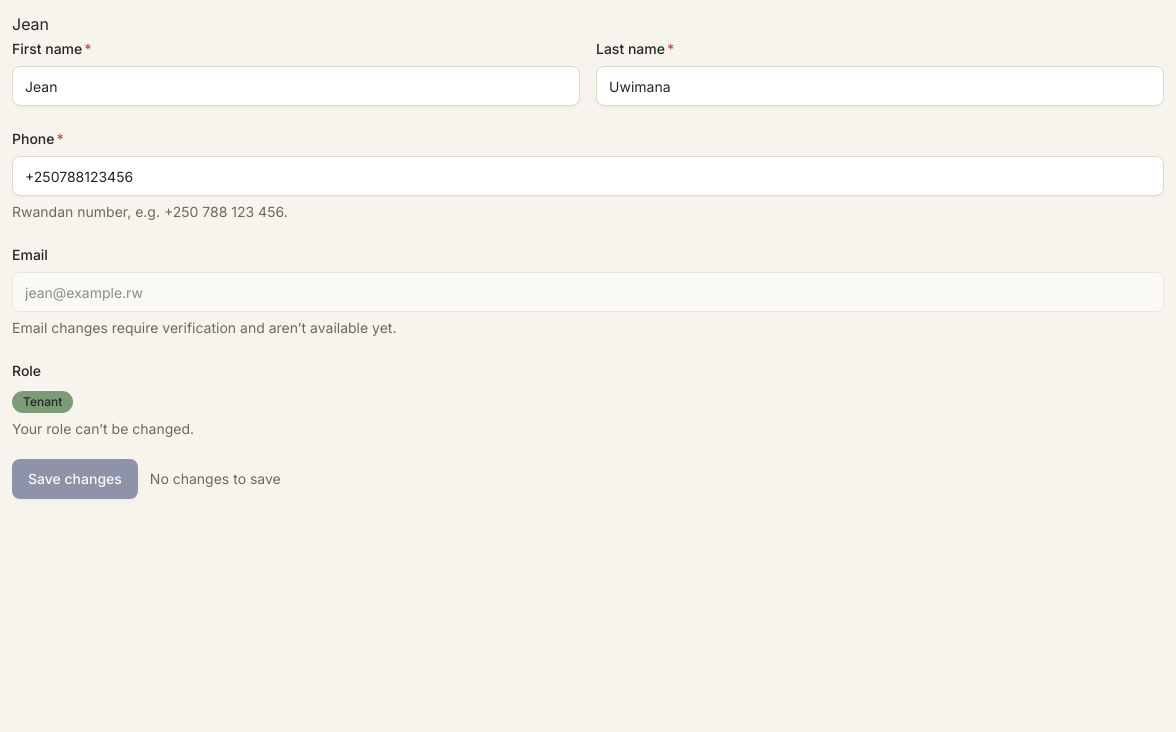
it: profile form › updates the AuthProvider user (header reflects the new name)
The image size is (1176, 732).
Expected: the text with test id "hdr-name" reads "Jean", [12,14,49,34]
Replace the text in the field labelled "First name*" with "Jeanette": (296, 86) [12,66,580,106]
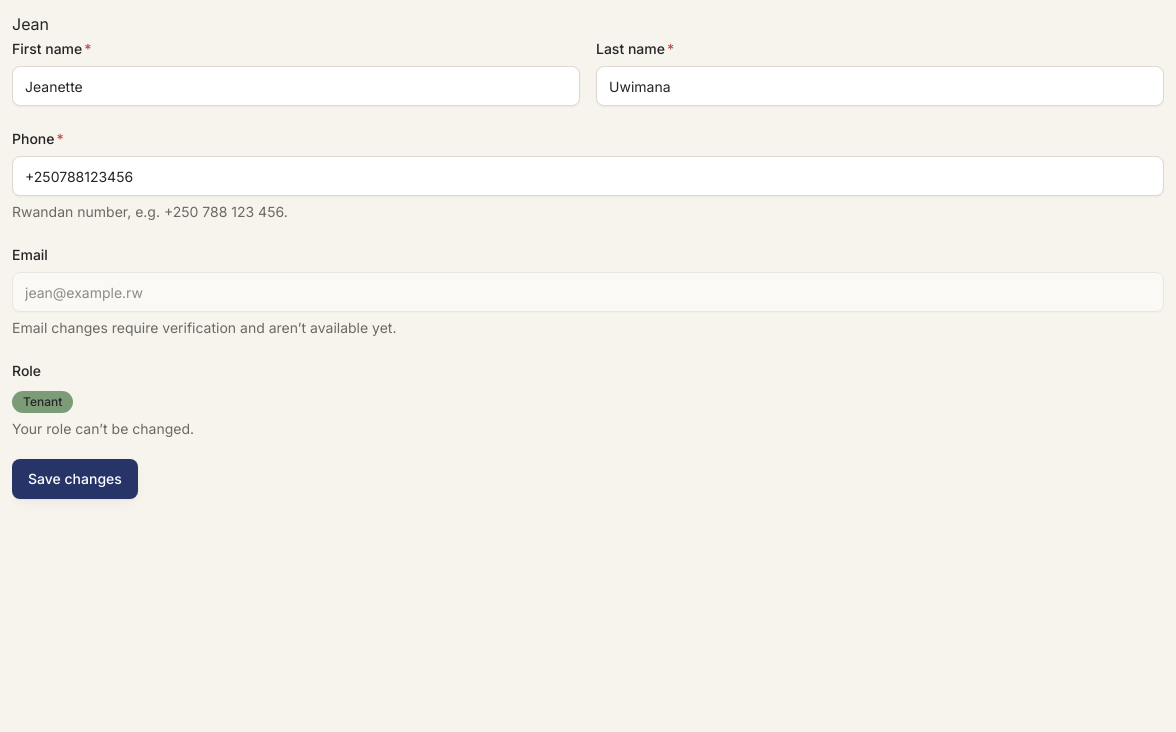
Click the button "Save changes": click(75, 479) [12,459,138,499]
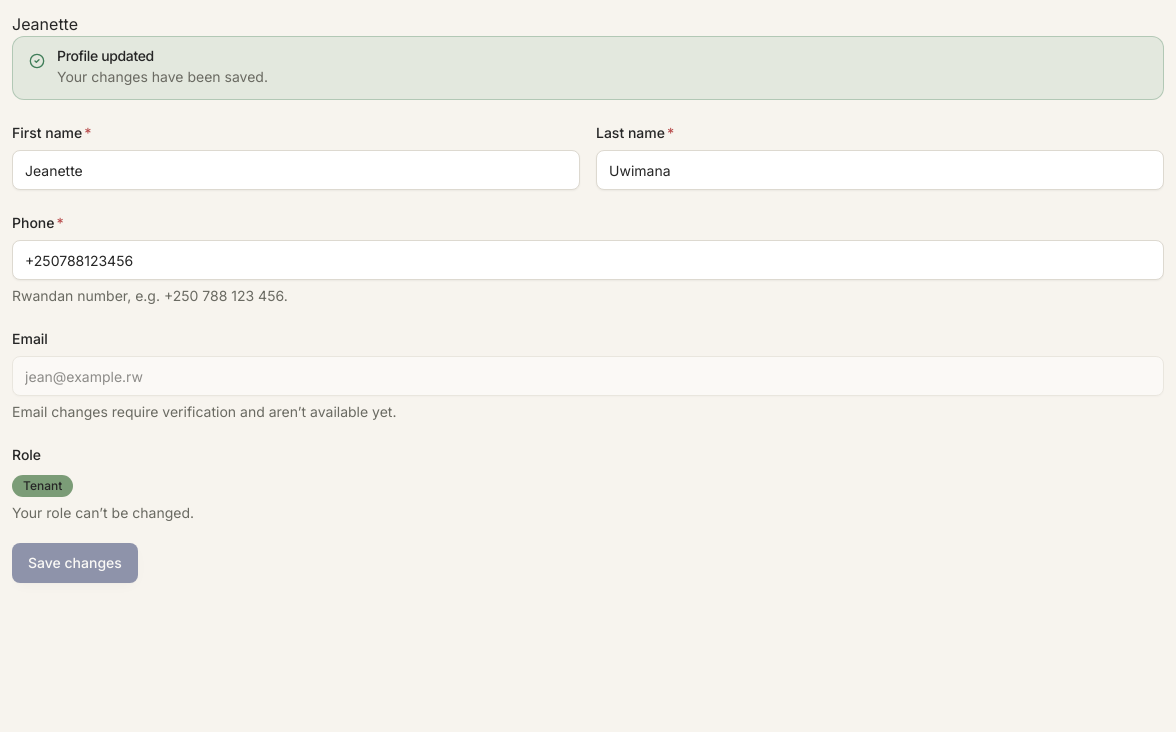
Now the text with test id "hdr-name" reads "Jeanette", box [12,14,78,34]
